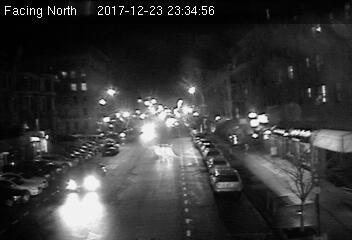car: (65, 161, 107, 193), (208, 167, 243, 193), (102, 142, 120, 155)
